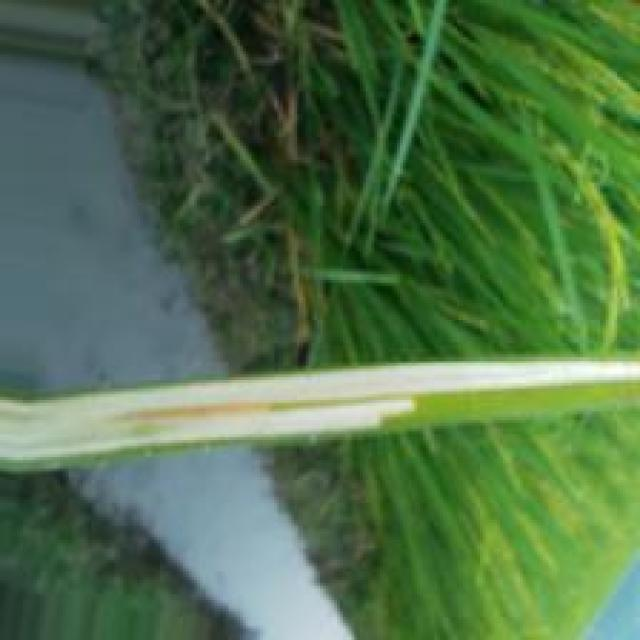Rice_Hispa: (0, 356, 639, 457)
